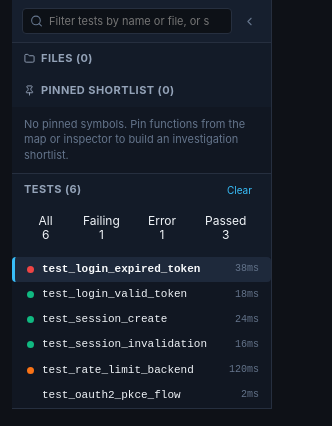
TestList Component & Filtering › renders list of tests and filters by status
Expected: the text "test_login_expired_token" is shown, left=42, top=263, right=200, bottom=276
Expected: the text "test_login_valid_token" is shown, left=42, top=288, right=187, bottom=301
// Click Failing filter
Click the button "Failing 1". click: (101, 228)
box: left=71, top=208, right=132, bottom=249
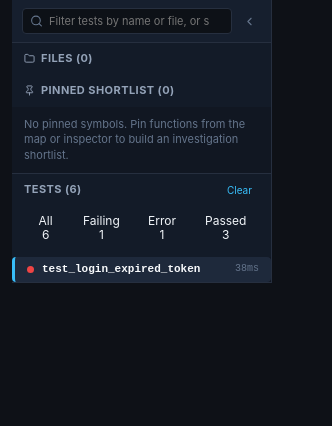
Expected: the text "test_login_expired_token" is shown, left=42, top=263, right=200, bottom=276
Expected: the button "test_login_valid_token" is gone
